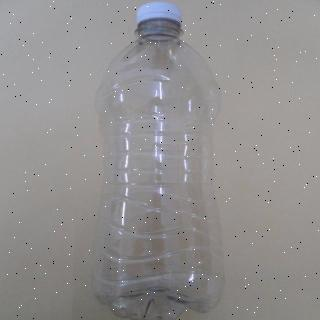Plastic-bottle: (87, 4, 241, 320)
